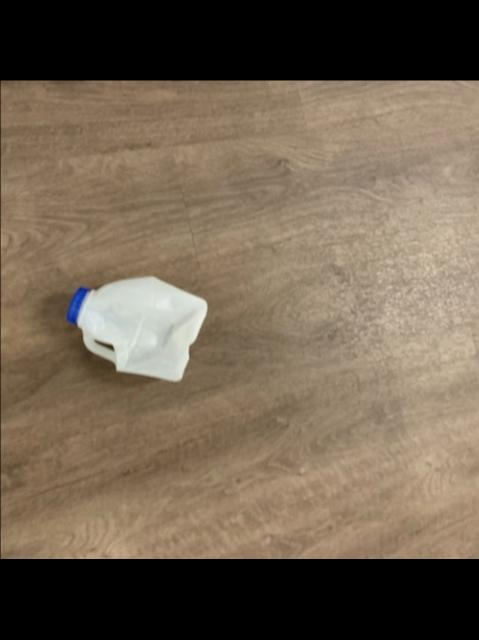plastic: (68, 278, 207, 382)
